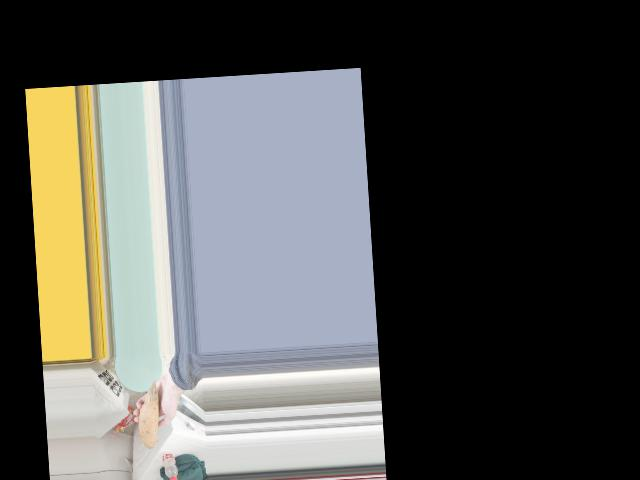sweet_potato: (136, 387, 163, 442)
